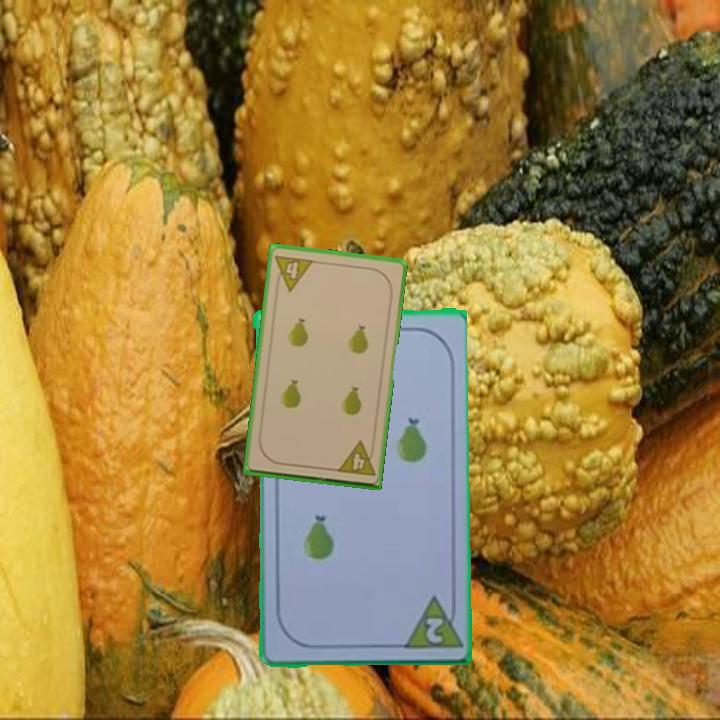2p: (397, 590, 462, 651)
4p: (271, 251, 316, 294), (333, 438, 378, 479)
